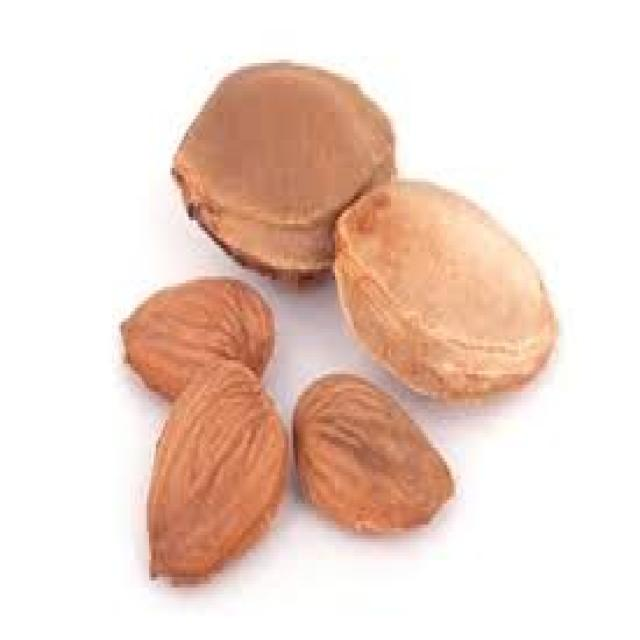cekirdek: (335, 185, 551, 400)
